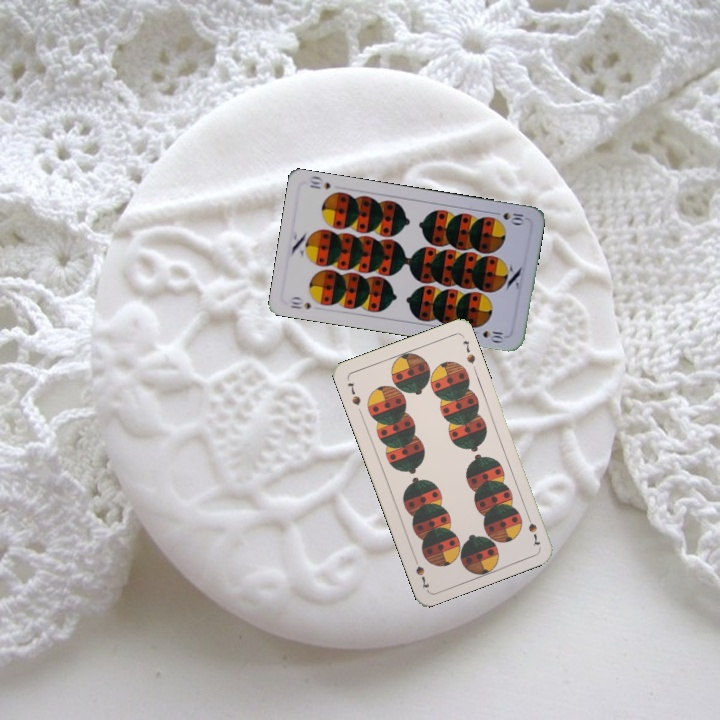S10: (488, 208, 526, 227), (287, 293, 313, 312)
S7: (523, 509, 543, 548), (343, 378, 363, 408)
